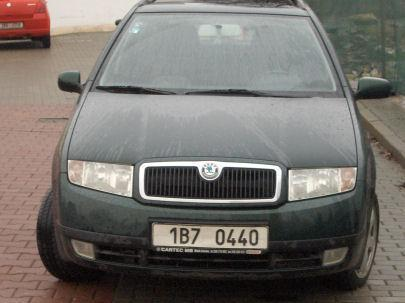placa de veiculo: (141, 214, 276, 262)
